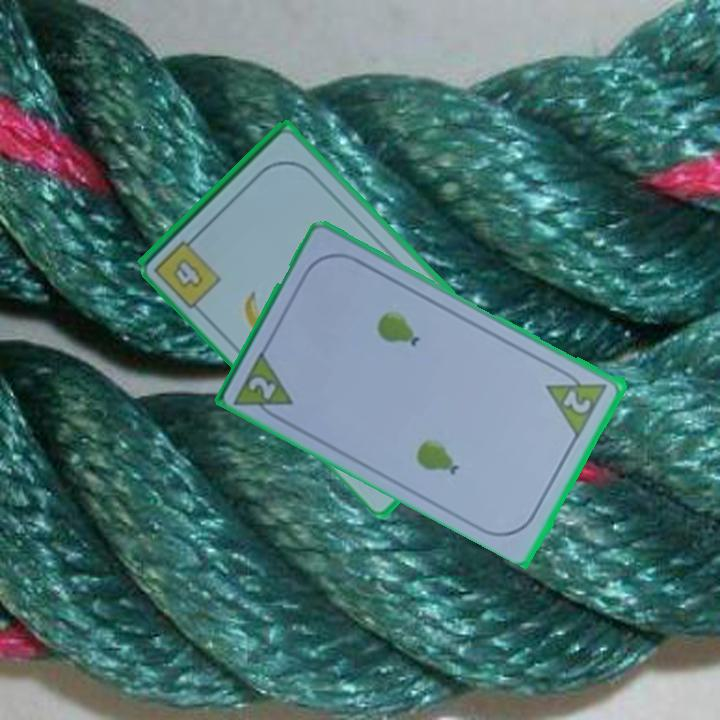2p: (231, 345, 297, 425), (560, 386, 595, 417)
4b: (150, 229, 224, 311)
